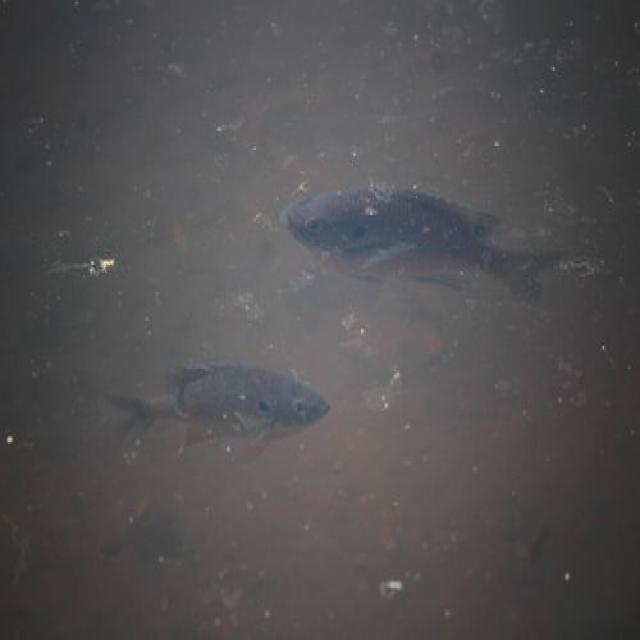Gunes Levregi: (277, 182, 574, 314), (106, 353, 334, 491)
